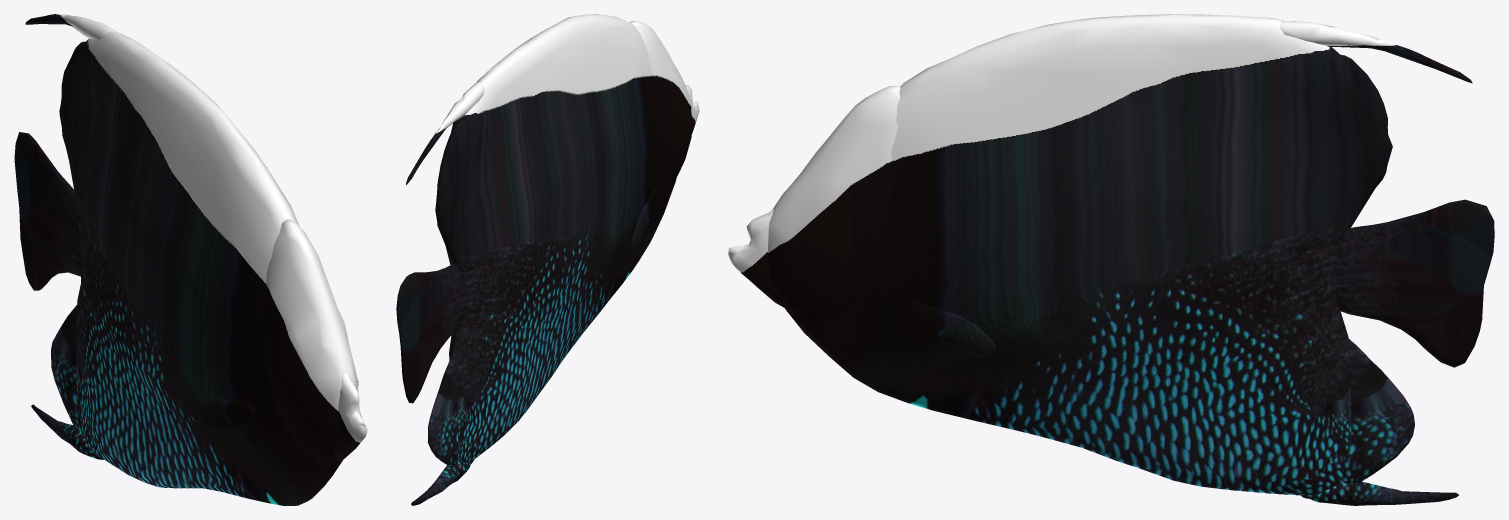
The model's file is damselfish.glb.
3 views of the same model, side by side, from view 1: azimuth 30°, elevation 25°; view 2: azimuth 150°, elevation 25°; view 3: azimuth 270°, elevation 25° (orthographic). The views are drawn at different scales.
Parts seen in each view (by area): view 1: model; view 2: model; view 3: model.
Part boxes in pixels (<box>): model: <box>14,14,367,505</box>; model: <box>396,14,699,505</box>; model: <box>728,14,1494,505</box>.
Size of the model in its own units: 0.0237 by 0.1129 by 0.16.
1 material, 1 textured.
